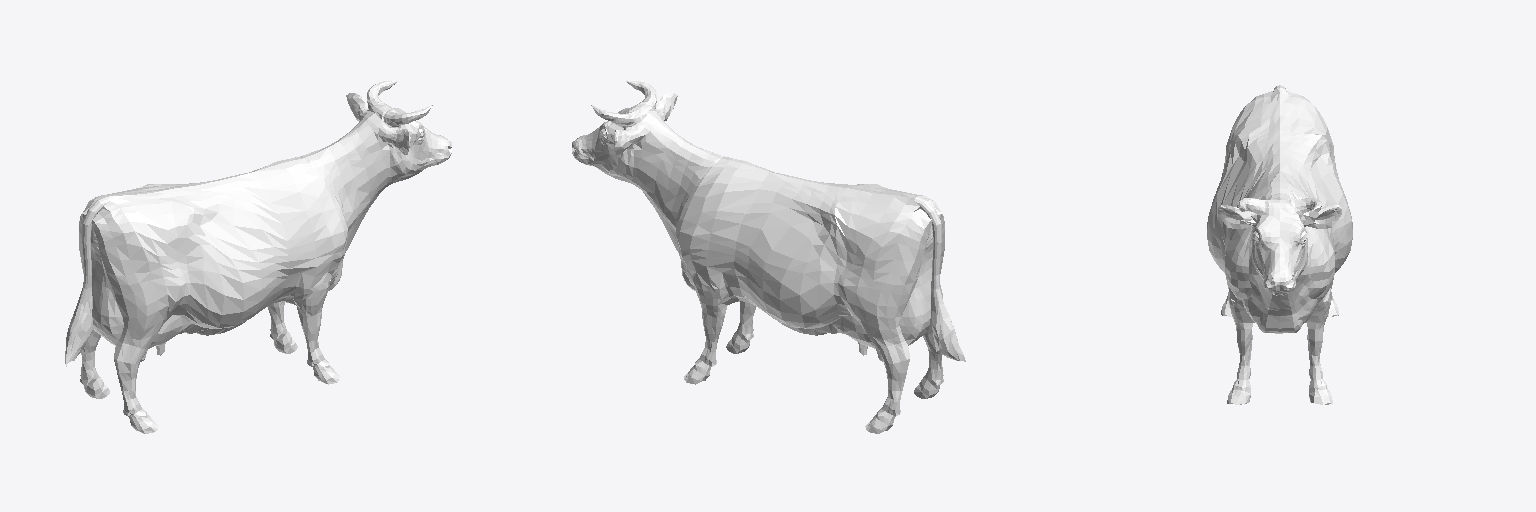
Rendered from cowUV.obj.
3 views of the same model, side by side, from view 1: azimuth 30°, elevation 25°; view 2: azimuth 150°, elevation 25°; view 3: azimuth 270°, elevation 25° (orthographic).
Parts seen in each view (by area): view 1: object; view 2: object; view 3: object.
Part boxes in pixels (left/top/right/bottom): object: left=65, top=81, right=451, bottom=433; object: left=572, top=81, right=965, bottom=433; object: left=1207, top=85, right=1352, bottom=404.
Size of the model in its own units: 182 by 111 by 59.24.